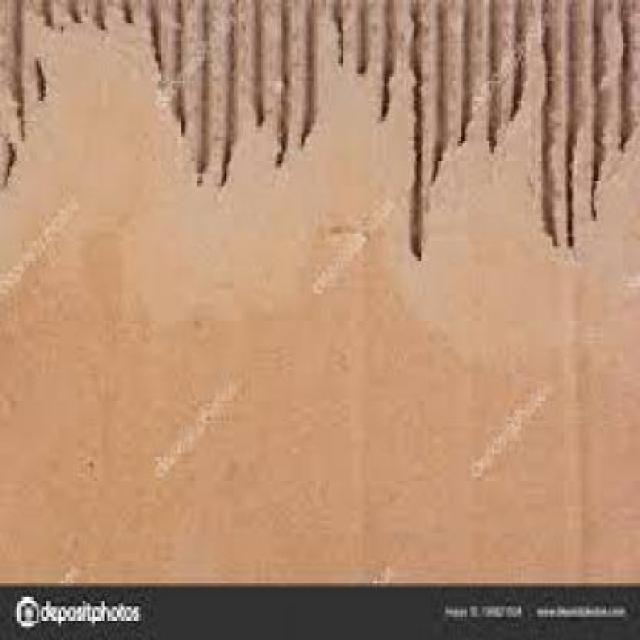CARDBOARD: (0, 0, 638, 581)
